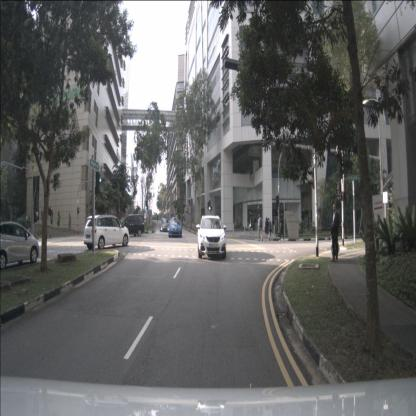human-pedestrian-adult: (330, 204, 340, 262), (278, 214, 284, 242), (258, 214, 263, 242), (265, 217, 270, 242), (267, 218, 272, 239), (249, 216, 253, 234), (25, 214, 28, 226), (36, 211, 39, 223), (28, 215, 30, 226), (156, 215, 158, 222)
vehicle-car: (0, 221, 40, 270), (83, 215, 129, 250), (198, 215, 226, 259), (115, 214, 144, 237), (168, 219, 182, 238), (160, 218, 170, 232)
